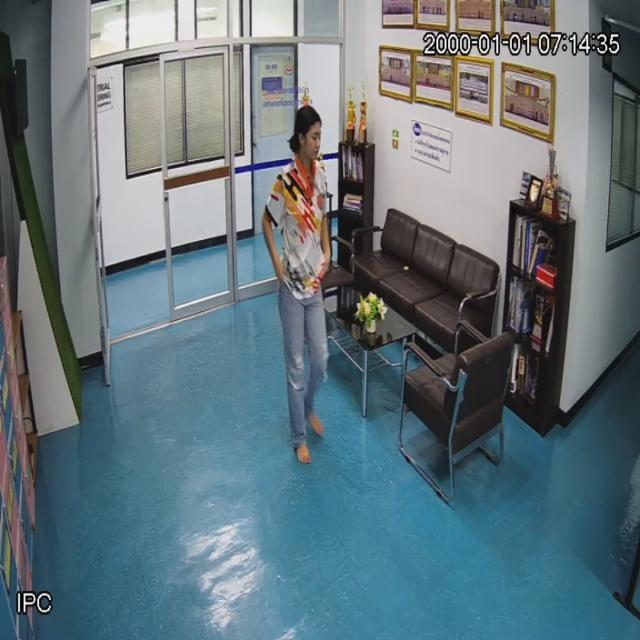normal: (263, 107, 331, 457)
